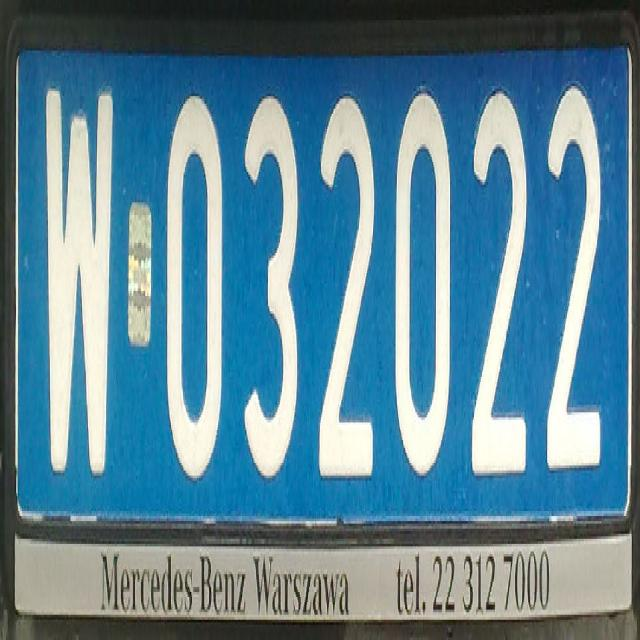pl_license_plate: (15, 38, 632, 521)
